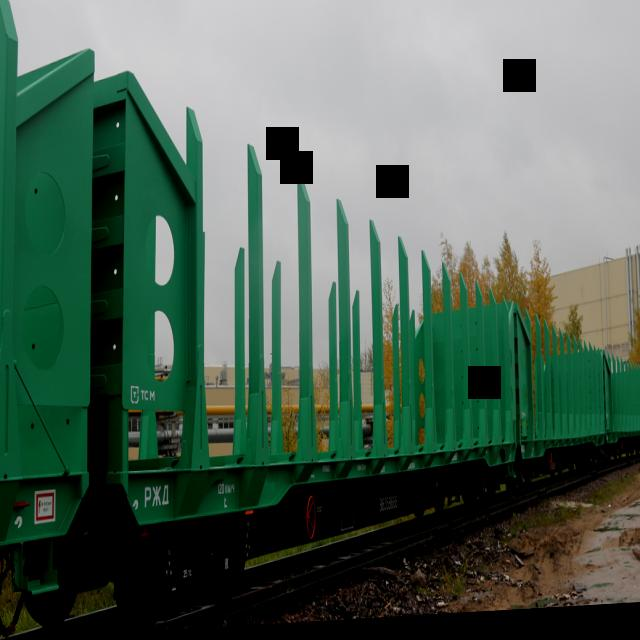flatcar_bulkhead: (101, 39, 520, 605), (0, 0, 101, 640), (519, 302, 607, 504)
